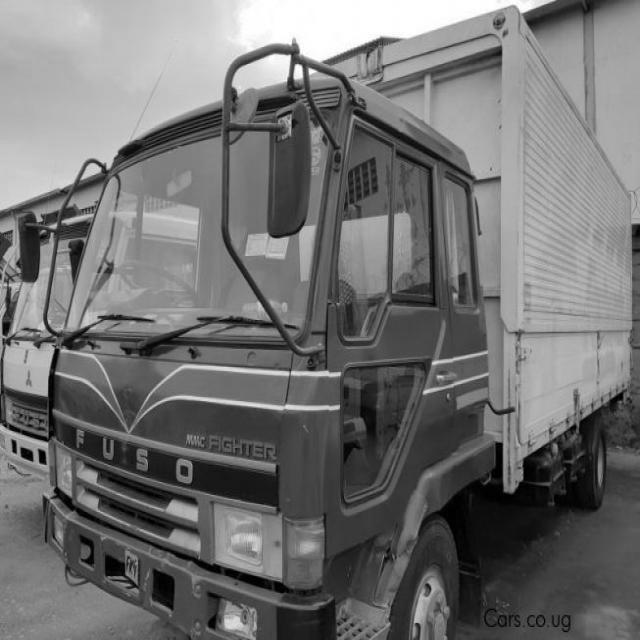truck: (21, 32, 536, 640)
